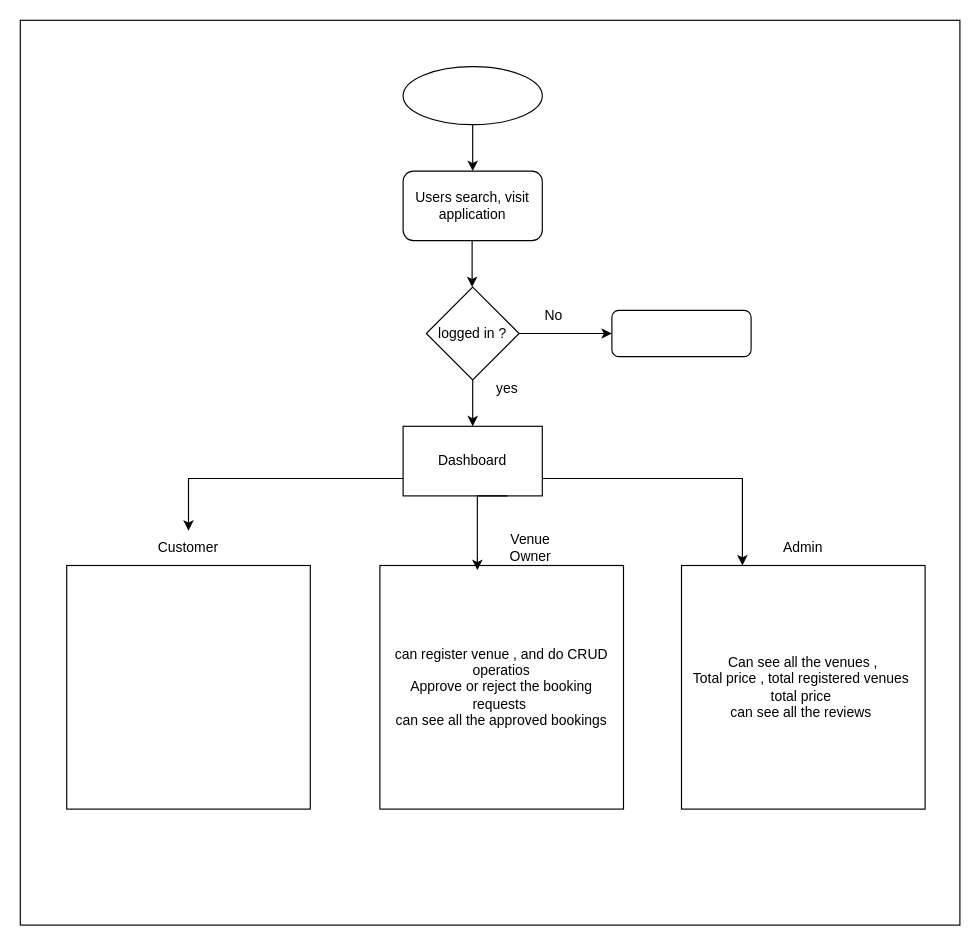
The diagram is 980 pixels wide and 945 high, and some of its shapes have lost their labels. Each missing label, with the centre of its shape:
Book the venue, Advance search Pay for the booked venue Can give review: [188,686]
Log in or Sign in or Sign up: [681,333]
Start: [472,95]
